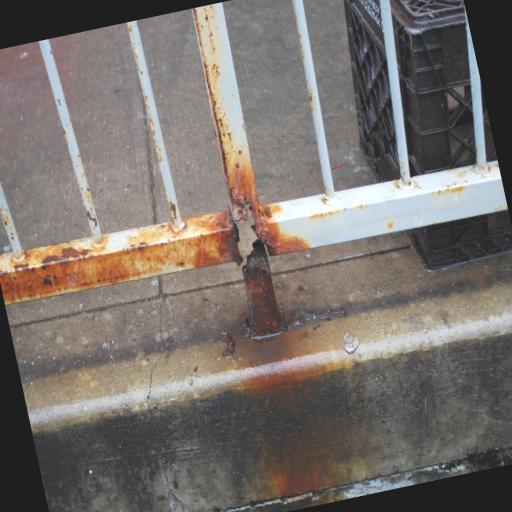segmentation: (0, 209, 242, 305), (191, 2, 262, 224), (240, 197, 306, 268), (236, 237, 282, 337), (166, 199, 180, 214)
